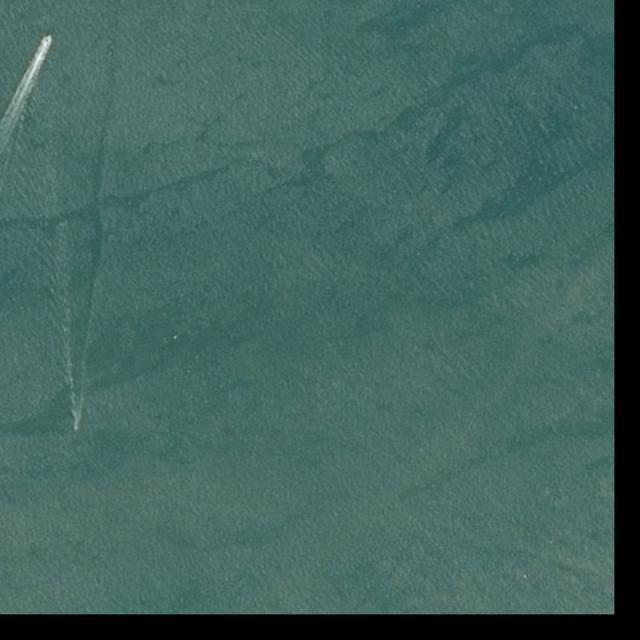ship: (41, 32, 54, 46), (73, 426, 81, 434)
